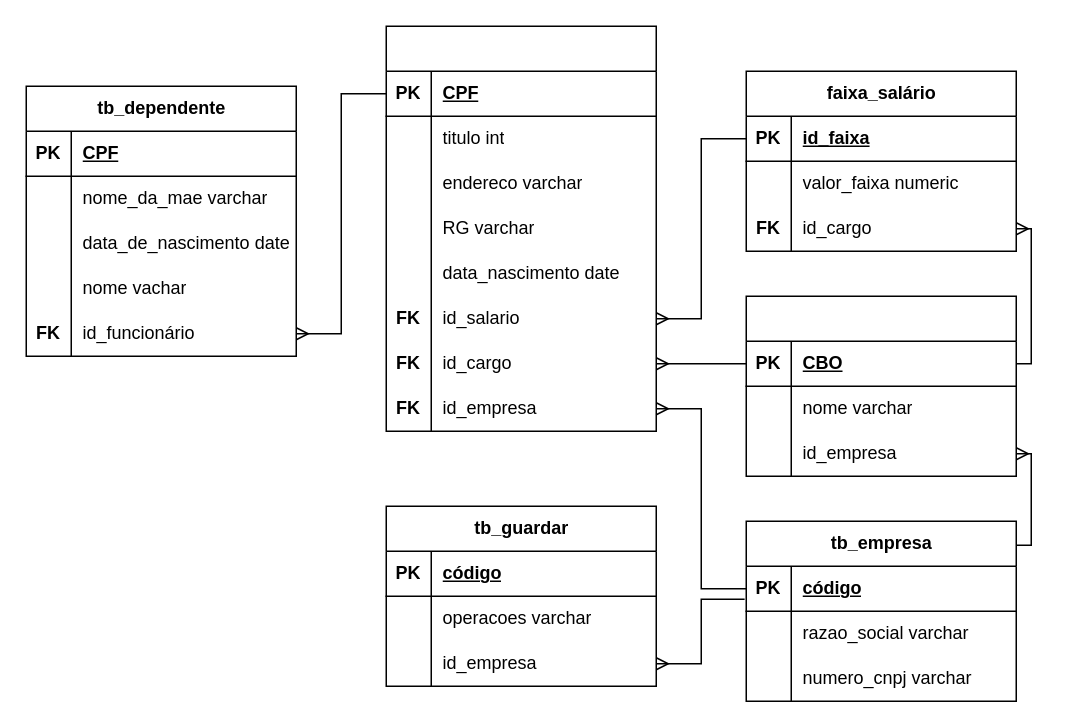
Image size: 1070x728. Some labels were removed from this diagram. Each missing label, with the box of its shape:
tb_cargo: (745, 295, 1016, 476)
tb_funcionario: (385, 25, 656, 431)
